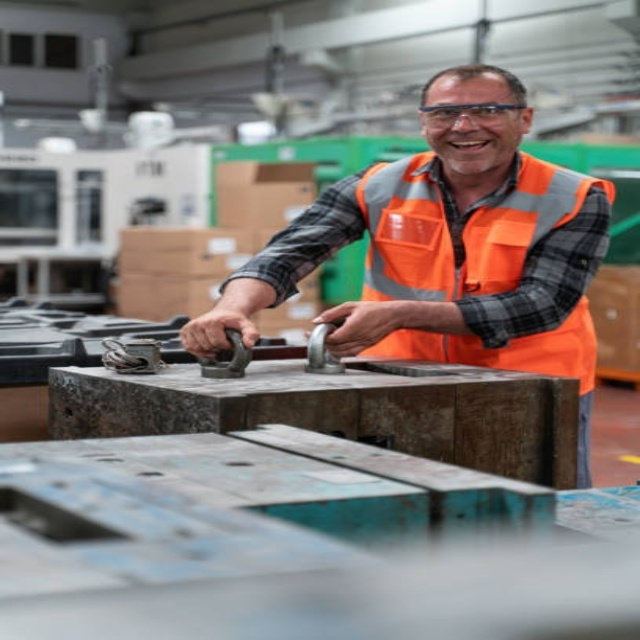Gafas: (419, 103, 525, 129)
Sin_guantes: (305, 297, 427, 356), (178, 307, 262, 359)
Sin_mascara: (441, 136, 499, 163)
